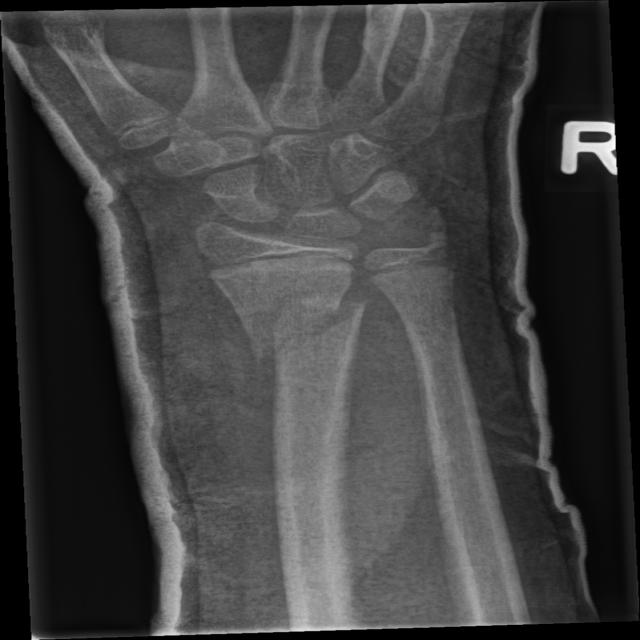radius fracture: (240, 291, 366, 408)
